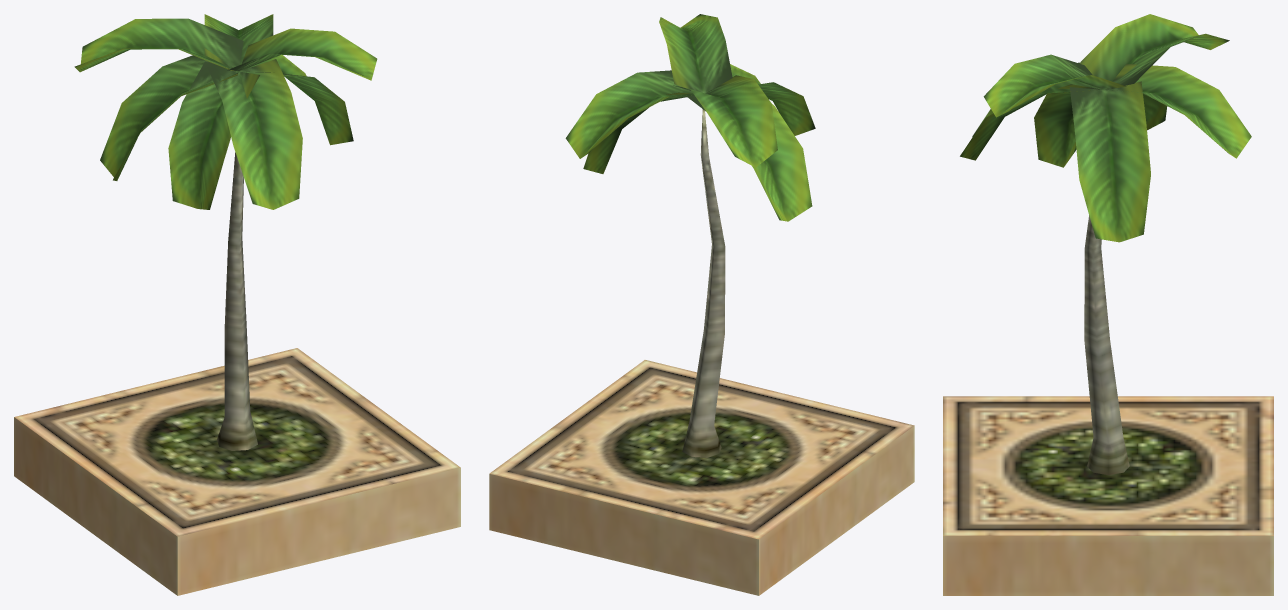
The model's file is palm02.glb.
The picture shows the model from 3 angles, left to right: view 1: azimuth 30°, elevation 25°; view 2: azimuth 150°, elevation 25°; view 3: azimuth 270°, elevation 25°; orthographic projection. The views are drawn at different scales.
Parts seen in each view (by area): view 1: palm02; view 2: palm02; view 3: palm02.
Boxes of the visible parts, x1,y1,x2,y2 form: palm02: (14,14,460,595); palm02: (489,14,914,595); palm02: (943,14,1273,595).
Bounding box in the file's own units: 5 × 7.96 × 5.
1 material, 1 textured.
